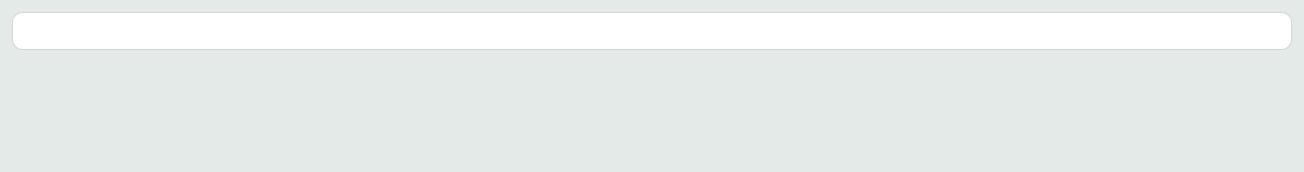
Test: the combo box › empties its field once a suggestion is chosen or Enter adds the typed text
Type "wo" into the dropdown at (652,31), box [12, 12, 1292, 50]
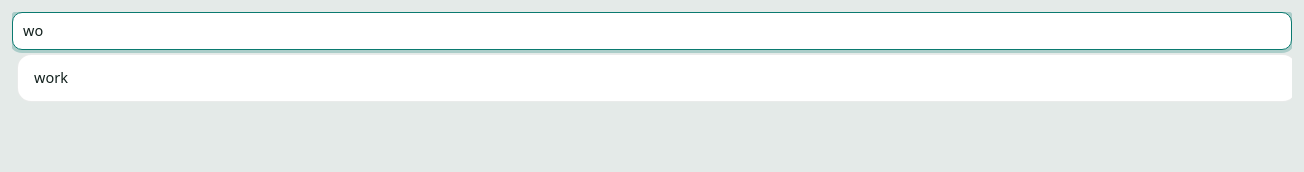
Click the option "work" at (51,77), box [34, 67, 68, 87]
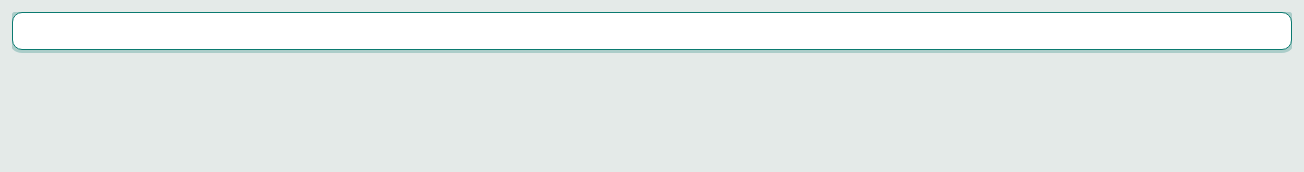
expect the dropdown is empty: met
Type "new" into the dropdown at (652,31), box [12, 12, 1292, 50]
Then press Enter
expect the dropdown is empty: met, box [12, 12, 1292, 50]
